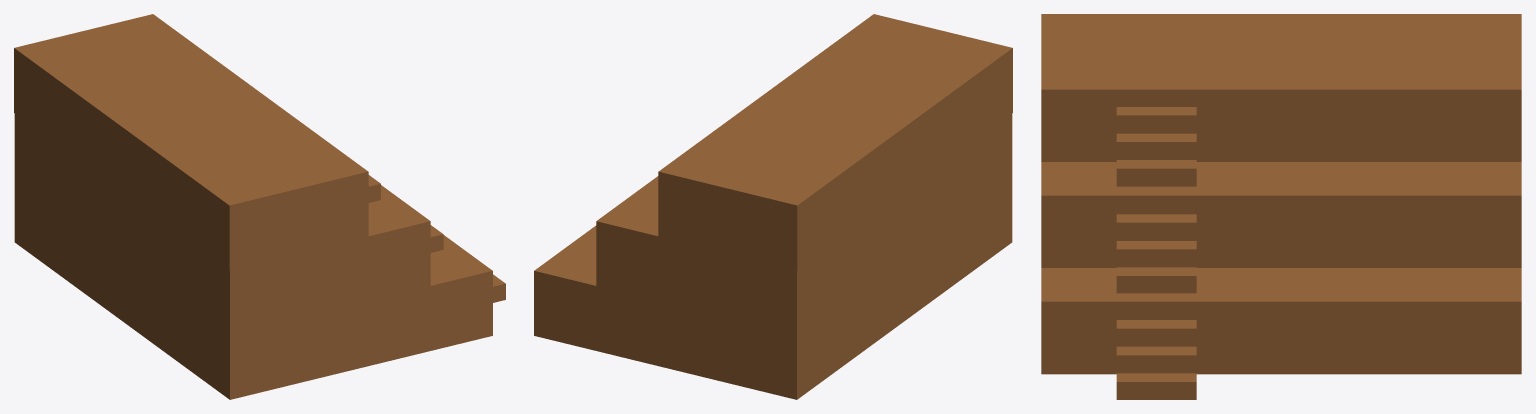
File: ants-garden.glb
The picture shows the model from 3 angles, left to right: view 1: azimuth 30°, elevation 25°; view 2: azimuth 150°, elevation 25°; view 3: azimuth 270°, elevation 25°; orthographic projection. The views are drawn at different scales.
Visible parts, largest first — view 1: Cube.002, Cube.003; view 2: Cube.002; view 3: Cube.002, Cube.003.
Part boxes in pixels (left/top/right/bottom): Cube.002: left=14, top=14, right=492, bottom=399; Cube.003: left=368, top=175, right=505, bottom=302; Cube.002: left=534, top=14, right=1012, bottom=399; Cube.002: left=1041, top=14, right=1521, bottom=374; Cube.003: left=1116, top=107, right=1196, bottom=399.
Size of the model in its own units: 19.95 by 11.97 by 24.
